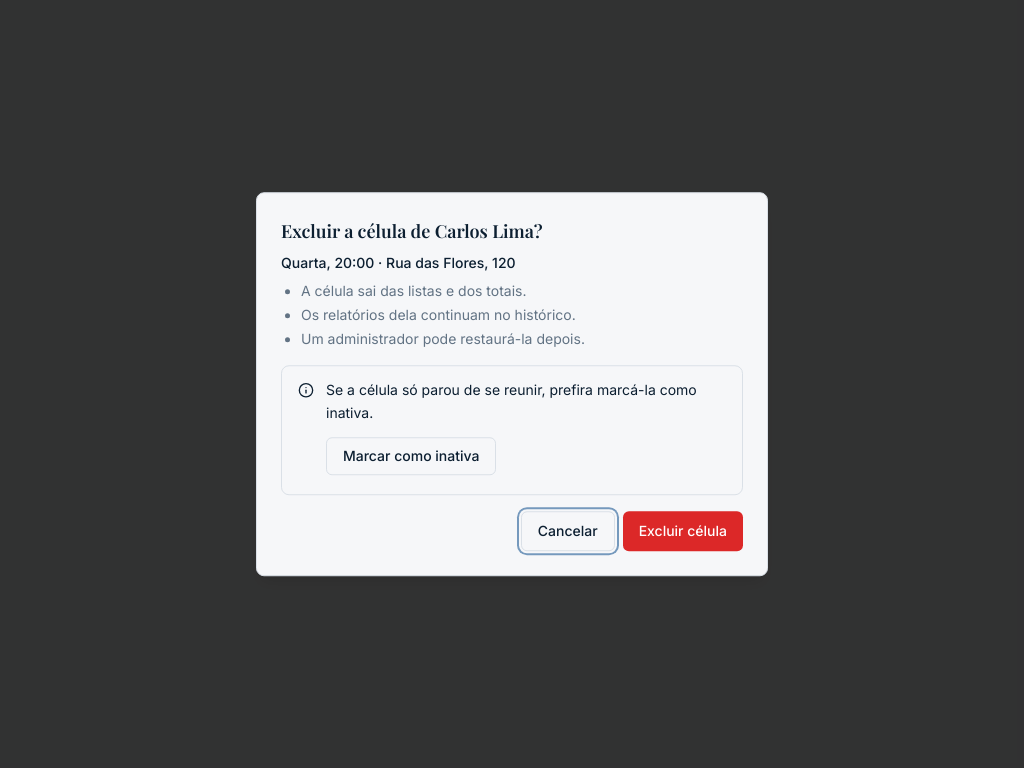
it: CellDeletionFlow: envio da exclusão › UX-06: durante a exclusão, o diálogo fica aberto com 'Excluindo…', os botões indisponíveis, um duplo toque faz uma chamada só e Esc não fecha
Later steps or results of the test are not shown.
Click the button "Excluir célula". click: click(683, 531)
box: top-left (623, 511), bottom-right (743, 551)
Click the button "Excluir célula". click: click(683, 531)
box: top-left (623, 511), bottom-right (743, 551)
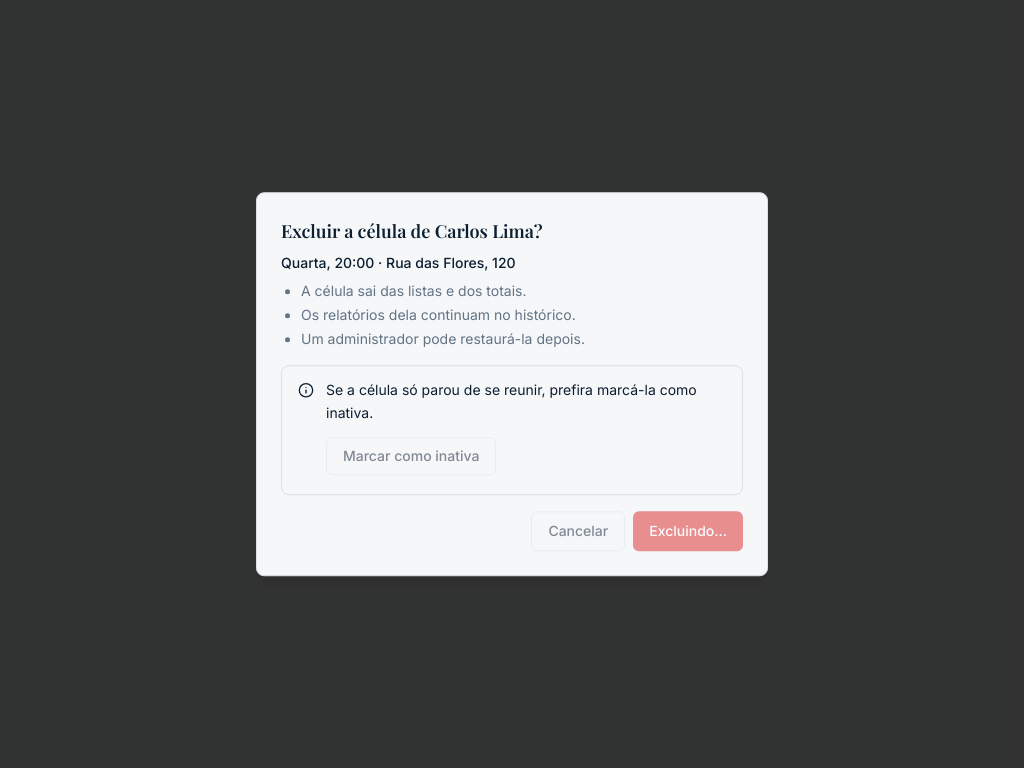
Check: the button "Cancelar" is disabled, box top-left (531, 511), bottom-right (625, 551)
